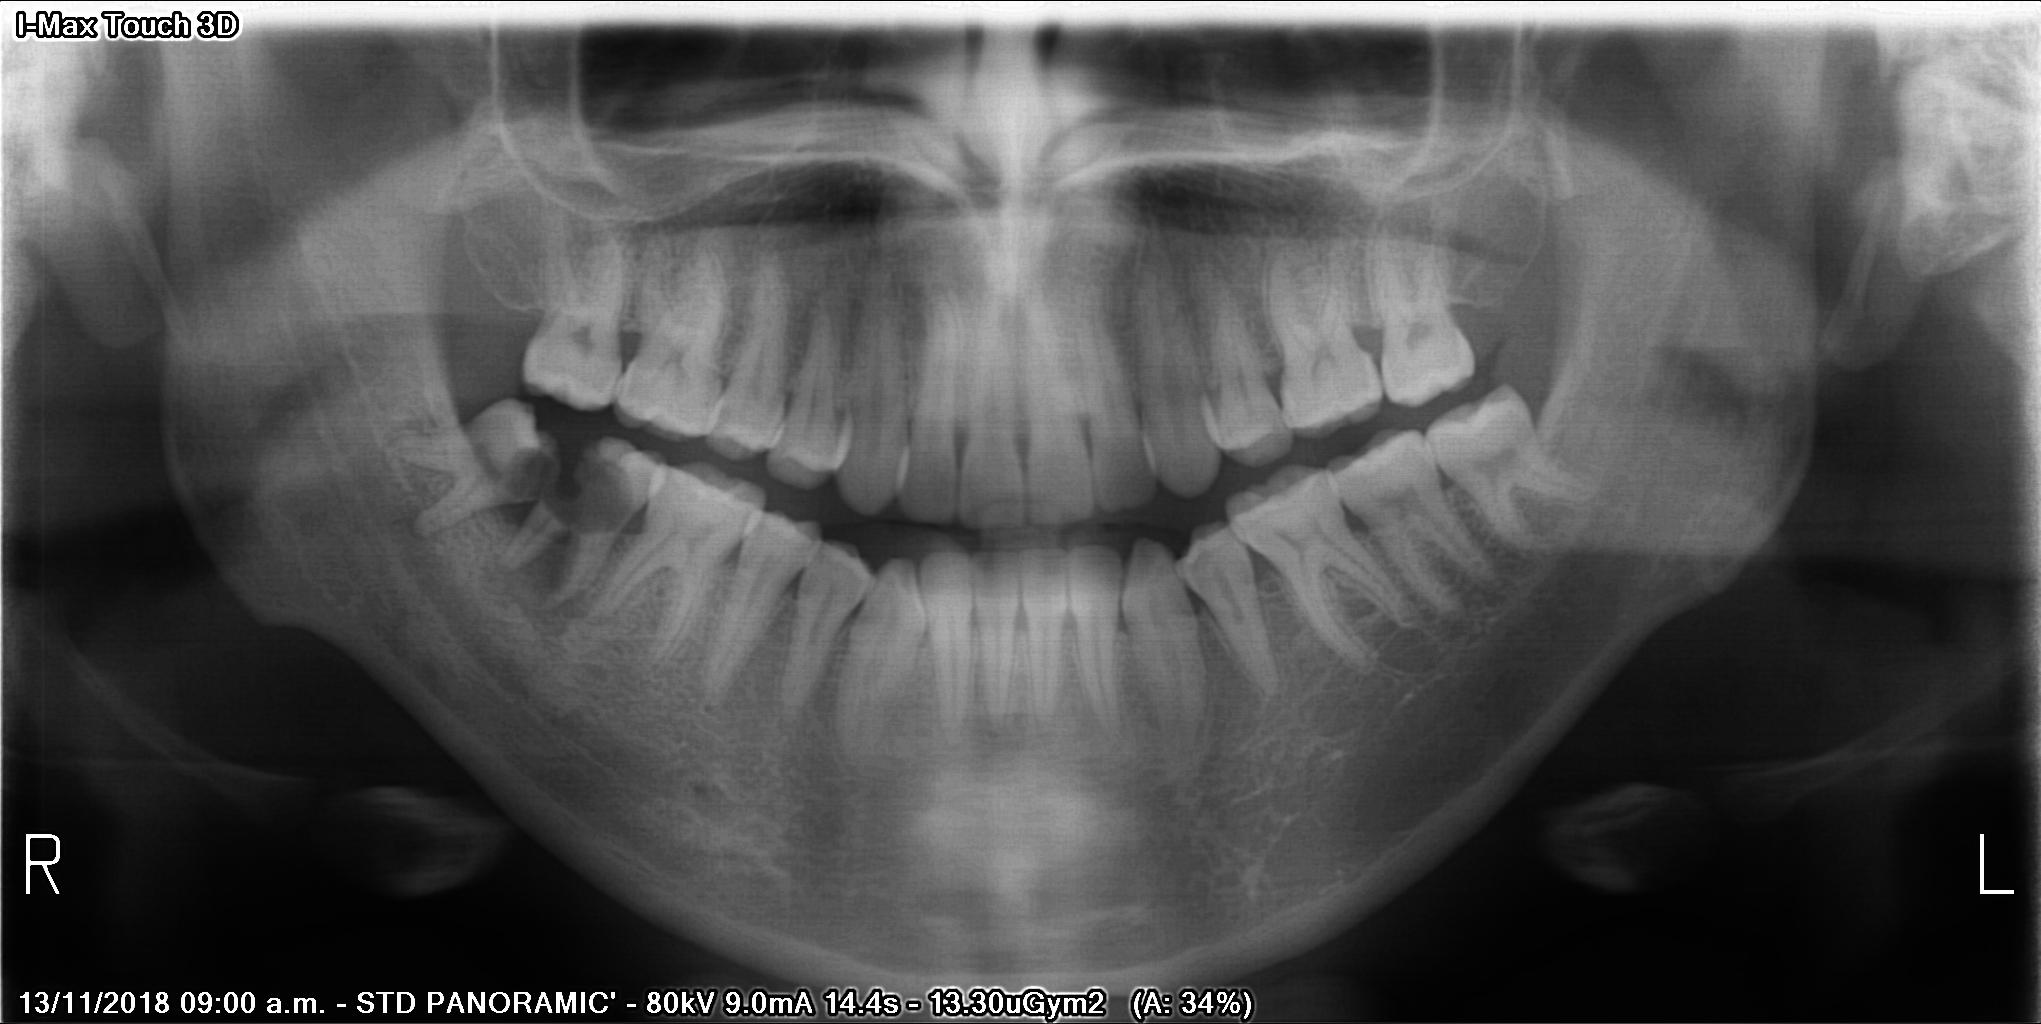Çürük Bölgesi: (555, 447, 637, 542), (507, 445, 558, 504)
